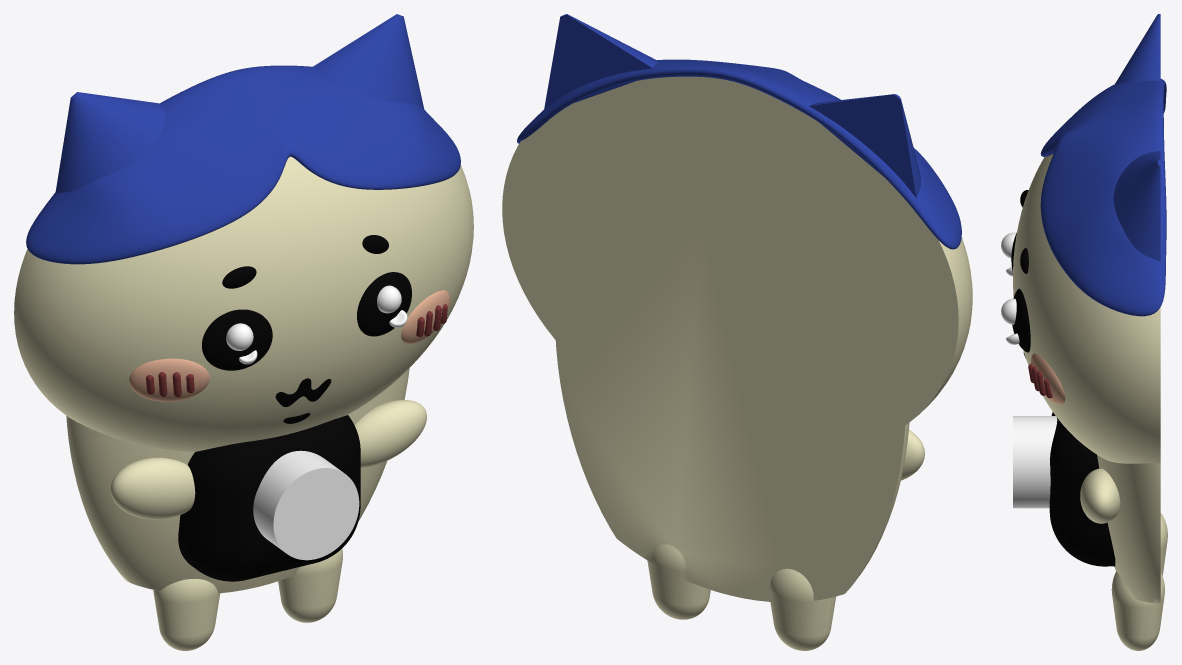
The model's file is left_down.glb.
3 views of the same model, side by side, from view 1: azimuth 30°, elevation 25°; view 2: azimuth 150°, elevation 25°; view 3: azimuth 270°, elevation 25° (orthographic). The views are drawn at different scales.
Parts seen in each view (by area): view 1: camera chikawa.001, 平面.007, 平面.006; view 2: camera chikawa.001, 平面.007; view 3: camera chikawa.001, 平面.007, 球体.033, 球体.032.
Part boxes in pixels (box(x1,y1,x2,y2)): camera chikawa.001: box(14, 14, 473, 650); 平面.007: box(26, 65, 460, 264); 平面.006: box(275, 378, 331, 423); camera chikawa.001: box(502, 14, 972, 650); 平面.007: box(517, 59, 961, 249); camera chikawa.001: box(1011, 14, 1167, 650); 平面.007: box(1040, 79, 1166, 316); 球体.033: box(1001, 298, 1016, 324); 球体.032: box(1001, 232, 1016, 258).
Size of the model in its own units: 2.6 by 3.19 by 0.9037.
